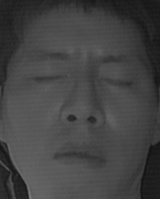blink: (25, 67, 63, 92), (99, 69, 134, 95)
mouth: (49, 135, 112, 175)
